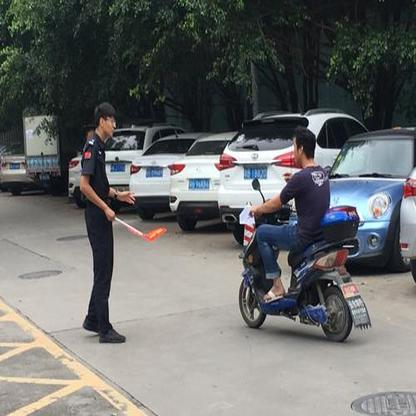target: (238, 123, 371, 342)
